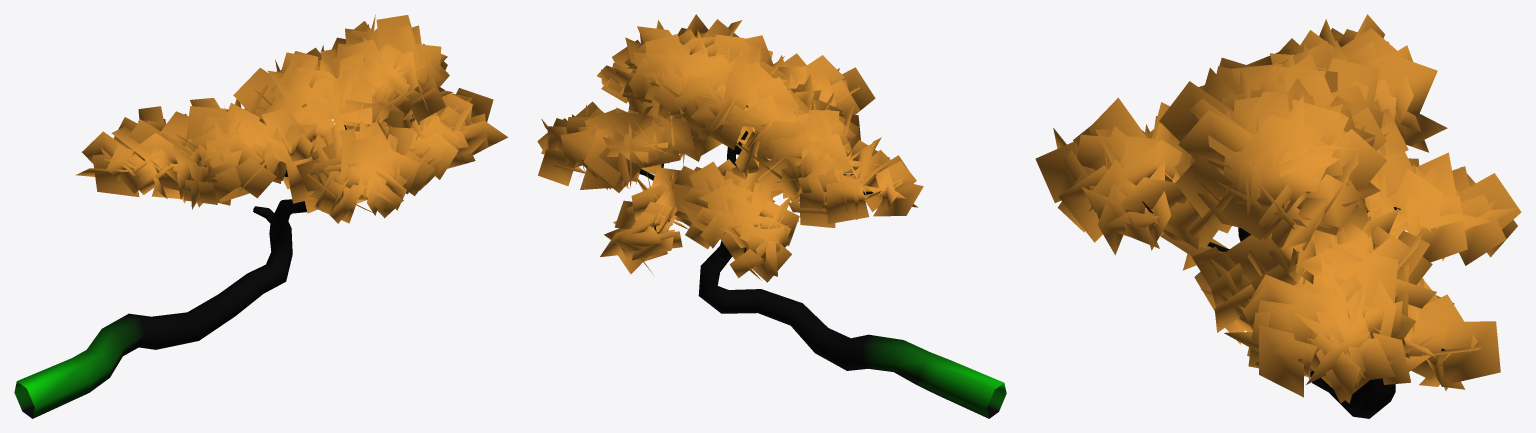
Rendered from SM_KnotwoodTreeB01.fbx.
The picture shows the model from 3 angles, left to right: view 1: azimuth 30°, elevation 25°; view 2: azimuth 150°, elevation 25°; view 3: azimuth 270°, elevation 25°; orthographic projection. The views are drawn at different scales.
Parts seen in each view (by area): view 1: SM_KnotwoodTreeB01_LOD0; view 2: SM_KnotwoodTreeB01_LOD0; view 3: SM_KnotwoodTreeB01_LOD0.
Boxes of the visible parts, bbox=[...] form: SM_KnotwoodTreeB01_LOD0: bbox=[14, 15, 508, 418]; SM_KnotwoodTreeB01_LOD0: bbox=[537, 14, 1006, 418]; SM_KnotwoodTreeB01_LOD0: bbox=[1035, 14, 1521, 418].
Size of what is drawn, in the model's own units: 2675 by 1693 by 1630.
